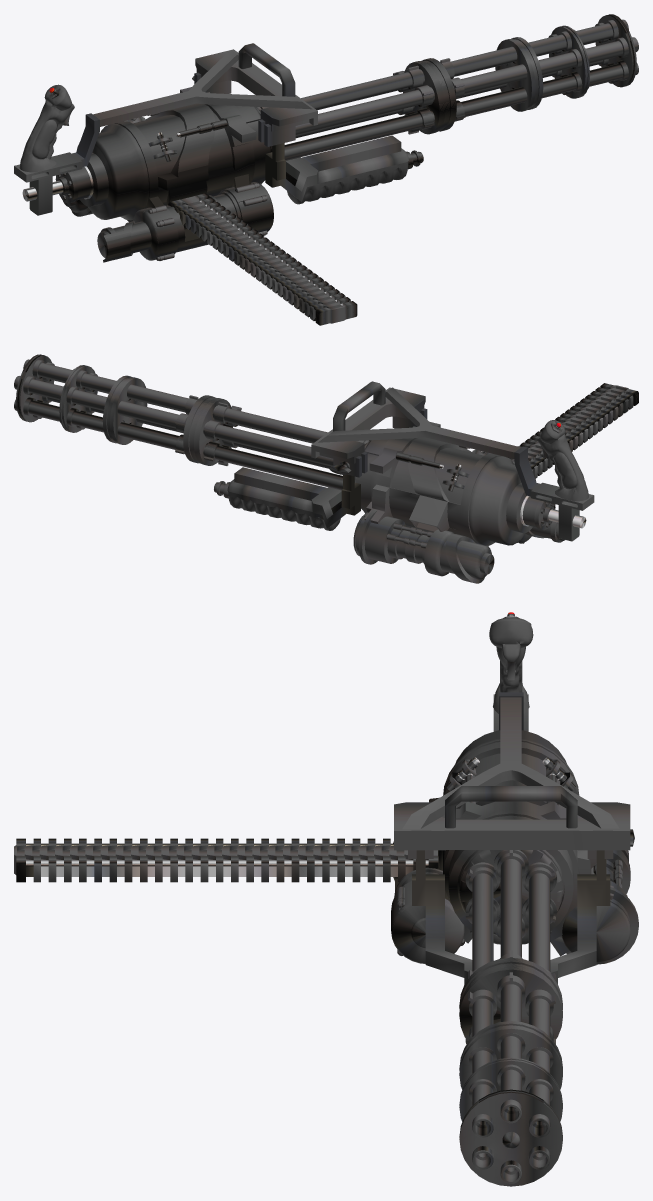
3 views of the same model, one above another, from view 1: azimuth 30°, elevation 25°; view 2: azimuth 150°, elevation 25°; view 3: azimuth 270°, elevation 25° (orthographic). The views are drawn at different scales.
Visible parts, largest first — view 1: 本体黒, フレーム, ベルト金属黒, グリップ, ハンドガード, ハンドガード上部, 本体銀; view 2: 本体黒, フレーム, ベルト金属黒, グリップ, ハンドガード上部, ハンドガード, 本体銀; view 3: 本体黒, フレーム, ベルト金属黒, ベルト金属, グリップ.
Boxes of the visible parts, x1=… form: 本体黒: x1=26, y1=14, x2=638, y2=262; フレーム: x1=14, y1=43, x2=401, y2=215; ベルト金属黒: x1=168, y1=193, x2=357, y2=325; グリップ: x1=19, y1=84, x2=74, y2=172; ハンドガード: x1=287, y1=161, x2=408, y2=204; ハンドガード上部: x1=286, y1=148, x2=423, y2=185; 本体銀: x1=22, y1=90, x2=180, y2=201; 本体黒: x1=14, y1=354, x2=583, y2=583; フレーム: x1=234, y1=381, x2=594, y2=541; ベルト金属黒: x1=507, y1=383, x2=638, y2=478; グリップ: x1=538, y1=420, x2=588, y2=501; ハンドガード上部: x1=214, y1=479, x2=341, y2=519; ハンドガード: x1=228, y1=496, x2=340, y2=530; 本体銀: x1=439, y1=425, x2=586, y2=528; 本体黒: x1=391, y1=613, x2=638, y2=1186; フレーム: x1=394, y1=692, x2=634, y2=984; ベルト金属黒: x1=14, y1=838, x2=438, y2=882; ベルト金属: x1=26, y1=843, x2=428, y2=876; グリップ: x1=489, y1=618, x2=533, y2=713.
Bounding box in the file's own units: 168 × 46.37 × 107.
Materials: 11 (7 with a texture image).
